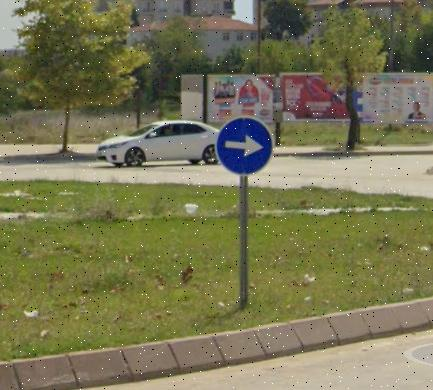turnright: (219, 119, 274, 174)
